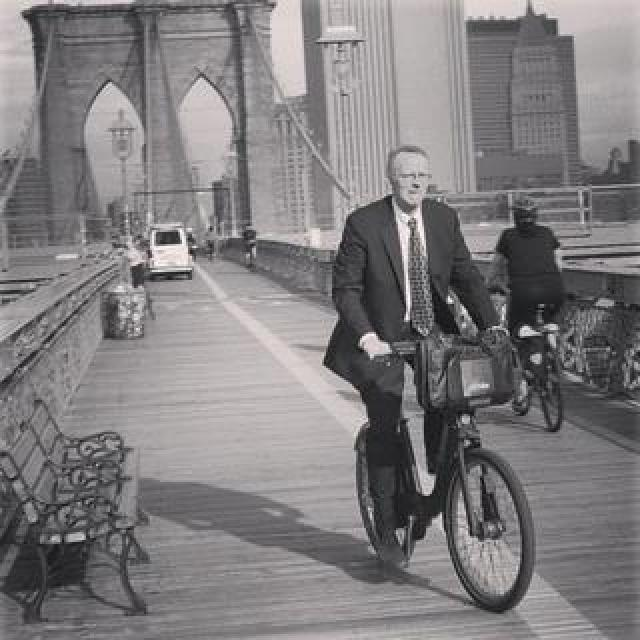Bus-Bike: (146, 228, 194, 282)
MC-Bike: (324, 144, 518, 598), (490, 196, 566, 346), (126, 238, 150, 290), (598, 146, 626, 180), (242, 228, 258, 268)
Person: (341, 332, 539, 614), (504, 313, 568, 433)
